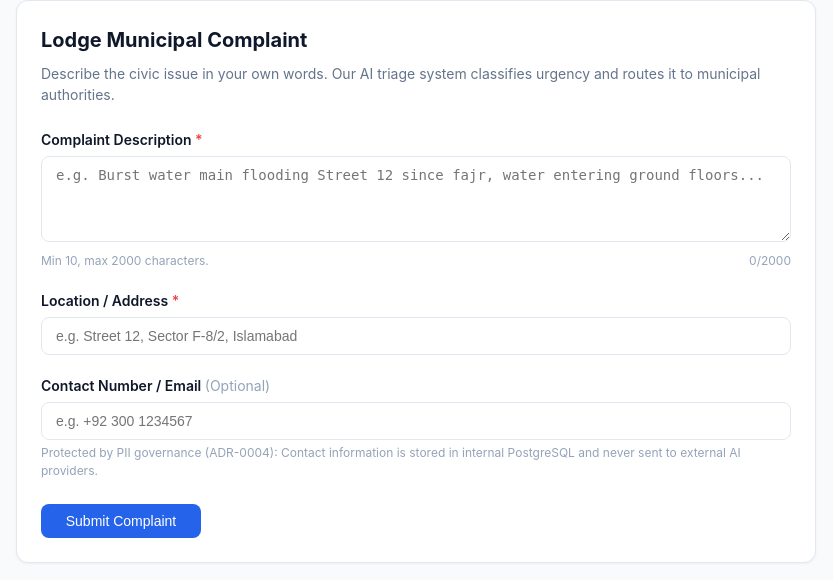
Test case: SubmitPage Component › enforces client-side validation for short text input
Replace the text in the text box with test id "input-text" with "short": {"x": 416, "y": 199} [41,156,791,242]
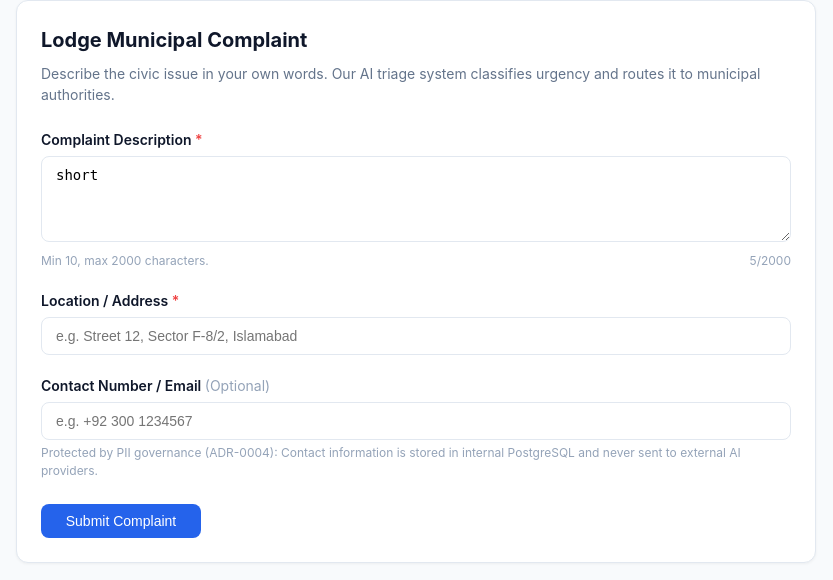
In the field with test id "input-location": {"x": 416, "y": 336} [41,317,791,355], type "Street 1"
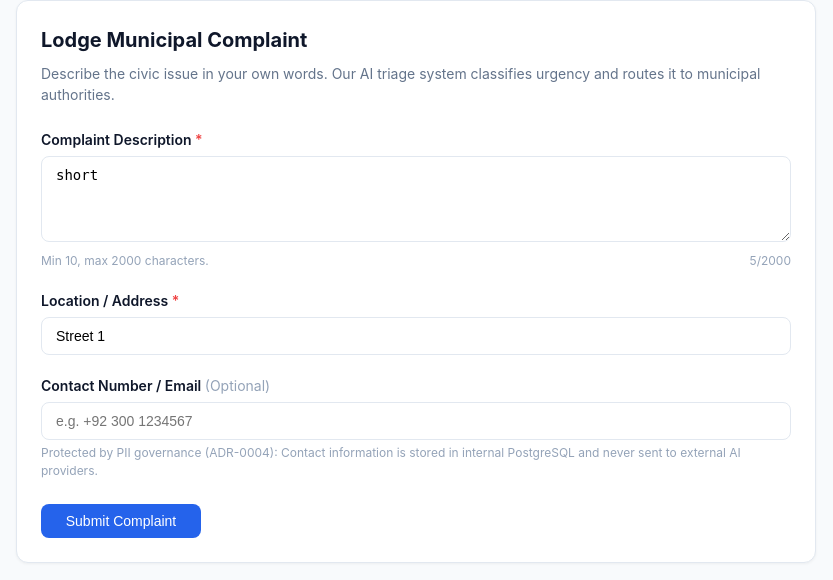
Click the button with test id "btn-submit": {"x": 121, "y": 521} [41,504,201,538]
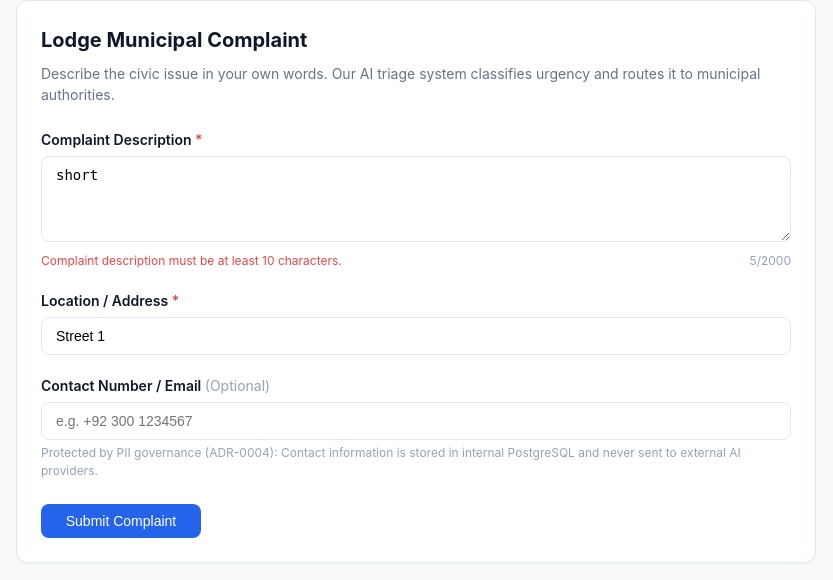
Result: the text "Complaint description must be at least 10 characters." is shown at [41,252,342,270]
